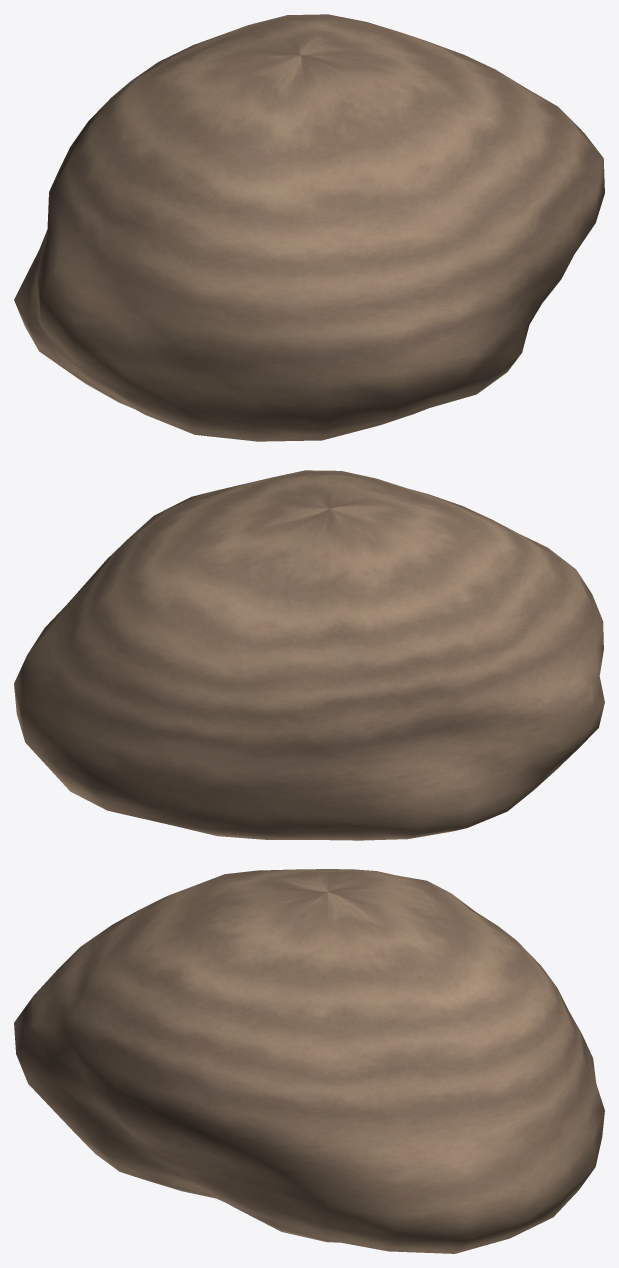
Rendered from rock_a.obj.
The picture shows the model from 3 angles, top to bottom: view 1: azimuth 30°, elevation 25°; view 2: azimuth 150°, elevation 25°; view 3: azimuth 270°, elevation 25°; orthographic projection. The views are drawn at different scales.
Visible parts, largest first — view 1: rock_a; view 2: rock_a; view 3: rock_a.
Part boxes in pixels (x1,y1,x2,y2): rock_a: (14, 14, 604, 441); rock_a: (14, 470, 604, 840); rock_a: (14, 869, 604, 1253).
Bounding box in the file's own units: 1.27 × 0.6075 × 1.28.
Materials: 1 (1 with a texture image).
